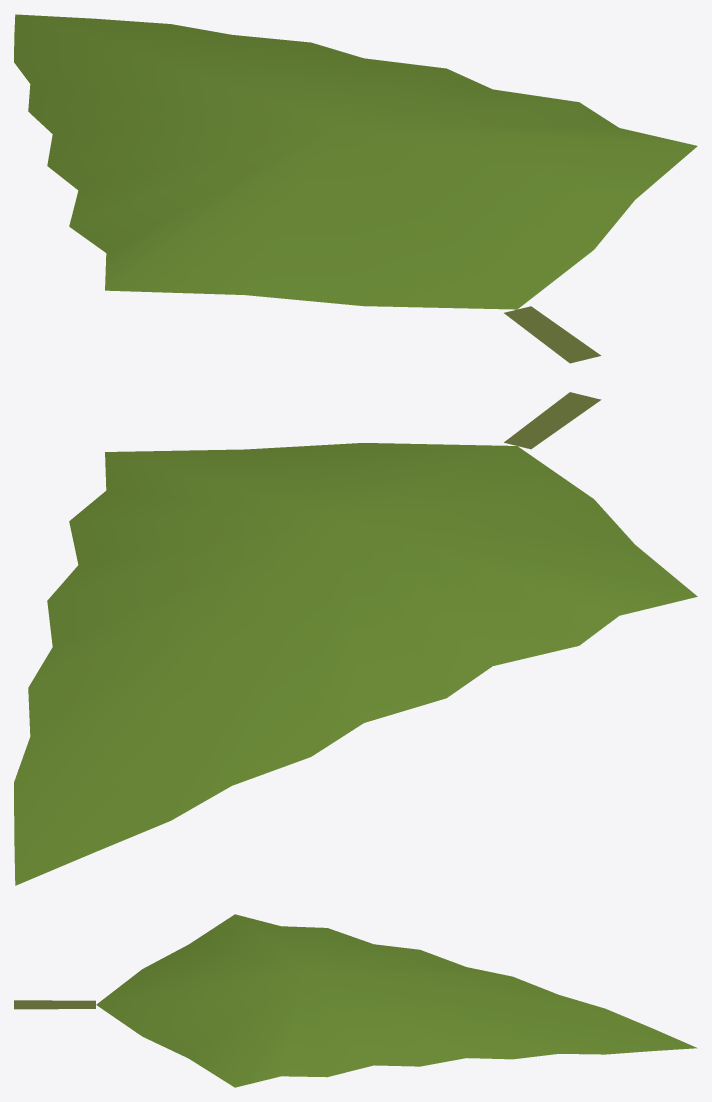
The model's file is leaves-ChN9IFn7.glb.
3 renders of one model, top to bottom at view 1: azimuth 30°, elevation 25°; view 2: azimuth 150°, elevation 25°; view 3: azimuth 270°, elevation 25°, orthographic. The views are drawn at different scales.
Visible parts, largest first — view 1: Leaf_2, Leaf_0; view 2: Leaf_2, Leaf_0; view 3: Leaf_2, Leaf_0.
Part boxes in pixels (<box>): Leaf_2: <box>14,14,697,309</box>; Leaf_0: <box>504,306,601,363</box>; Leaf_2: <box>14,443,697,885</box>; Leaf_0: <box>504,392,601,449</box>; Leaf_2: <box>96,914,697,1087</box>; Leaf_0: <box>14,1000,95,1009</box>.
Size of the model in its own units: 0.6001 by 0.125 by 1.
